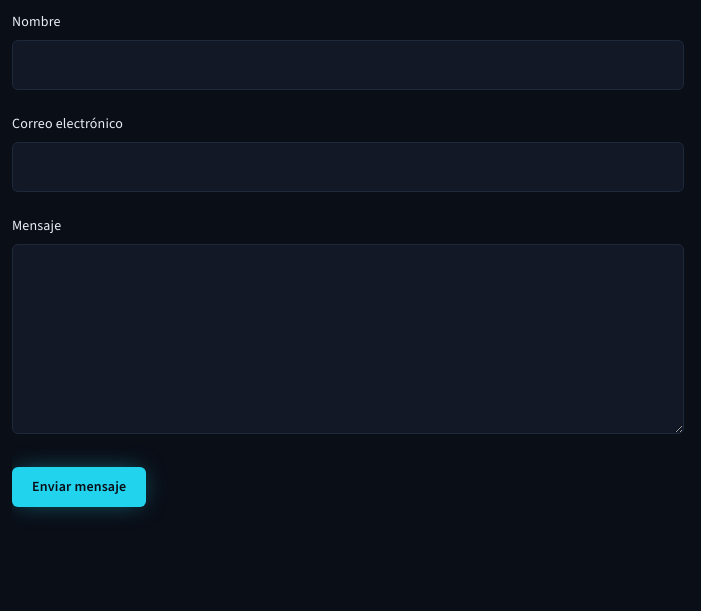
Scenario: ContactForm › shows the connection error Spanish message on a server failure (500)
The width and height of the screenshot is (701, 611).
Type "Ana" into the field labelled "Nombre". click: (348, 65)
box: [12,40,684,90]
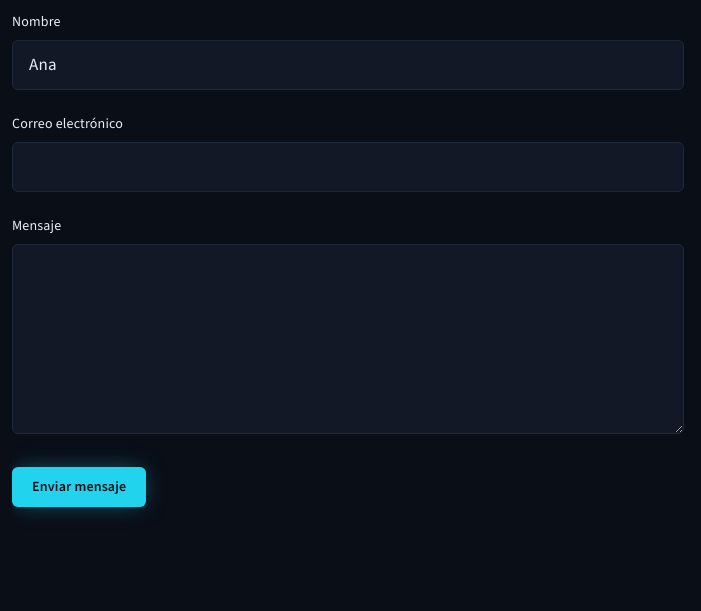
Type "ana@example.com" into the field labelled "Correo electrónico". click: (348, 167)
box: [12,142,684,192]
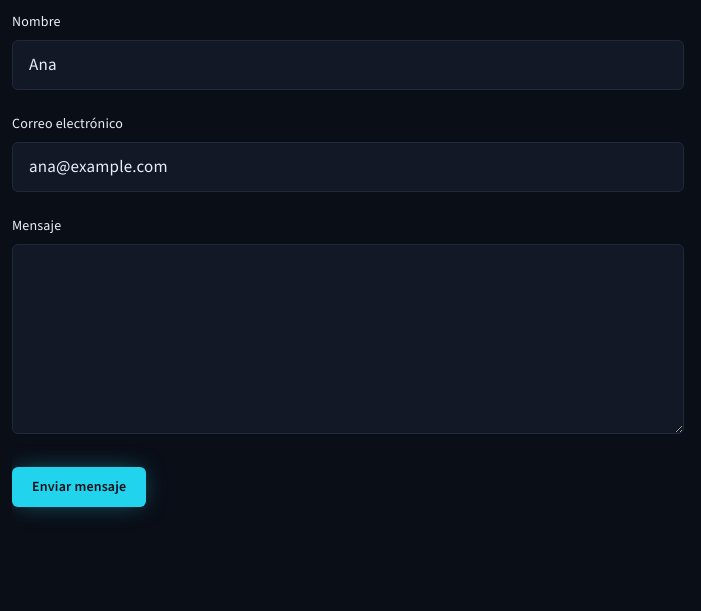
Type "Hola, quería consultar por un proyecto." into the text box labelled "Mensaje". click: (348, 339)
box: [12,244,684,434]
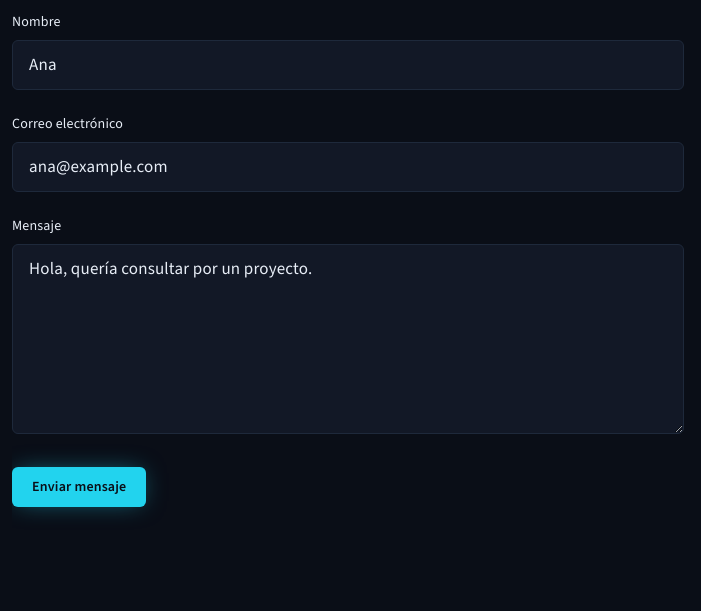
Click the button "Enviar mensaje". click: (79, 487)
box: [12,467,146,507]
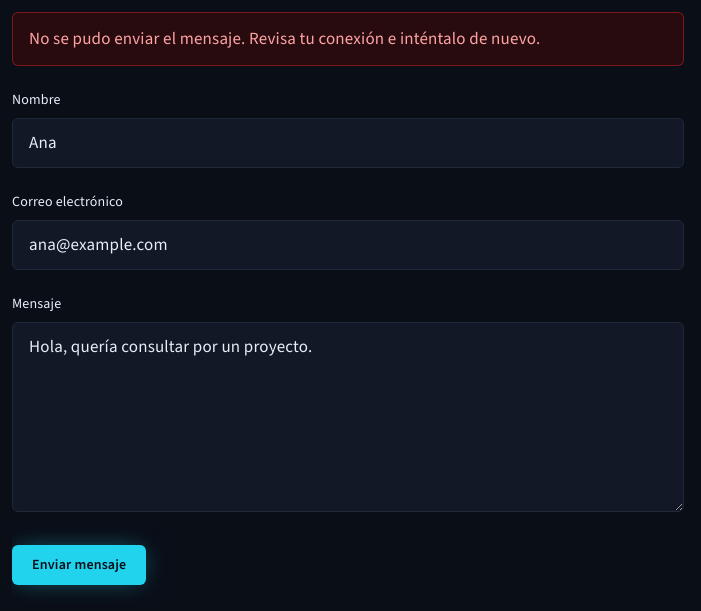
Expected: the message shows "Revisa tu conexión", [29,27,540,50]
